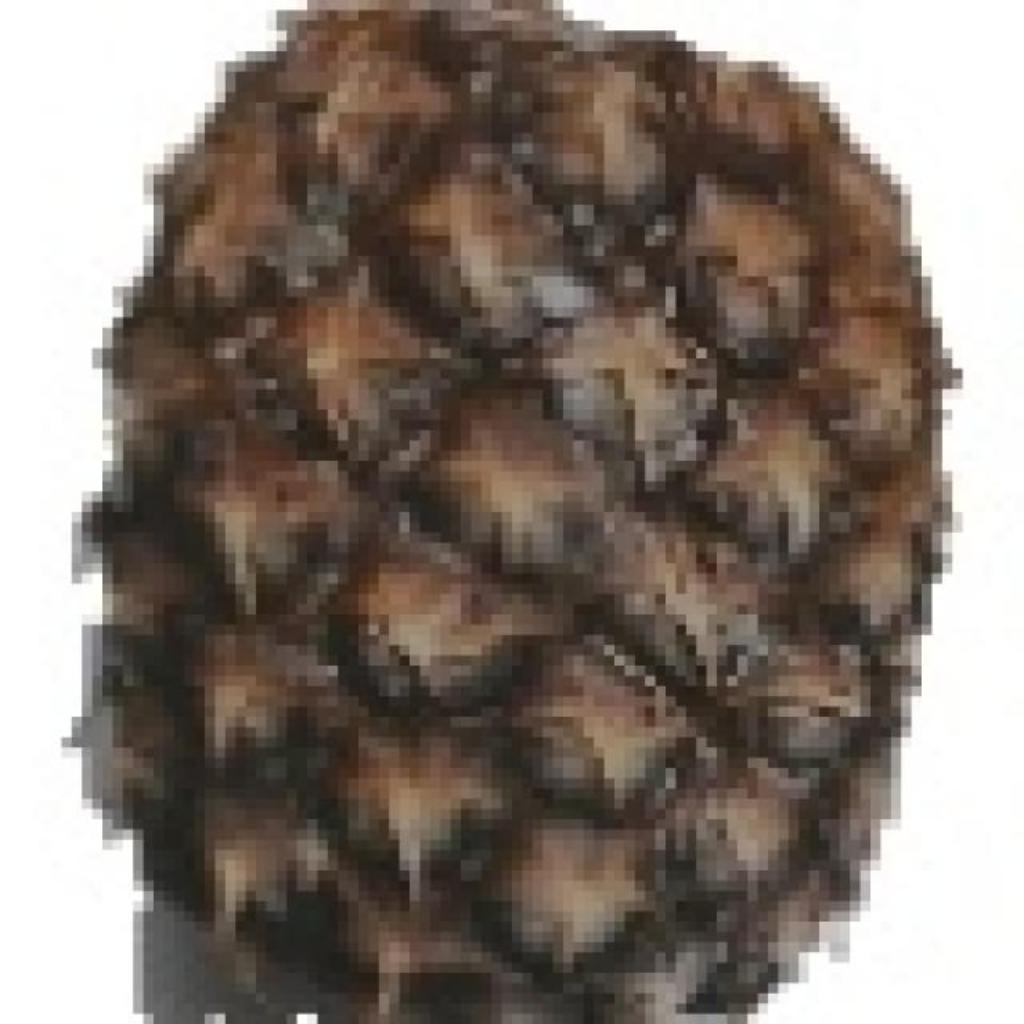pineapple: (76, 0, 952, 1024)
